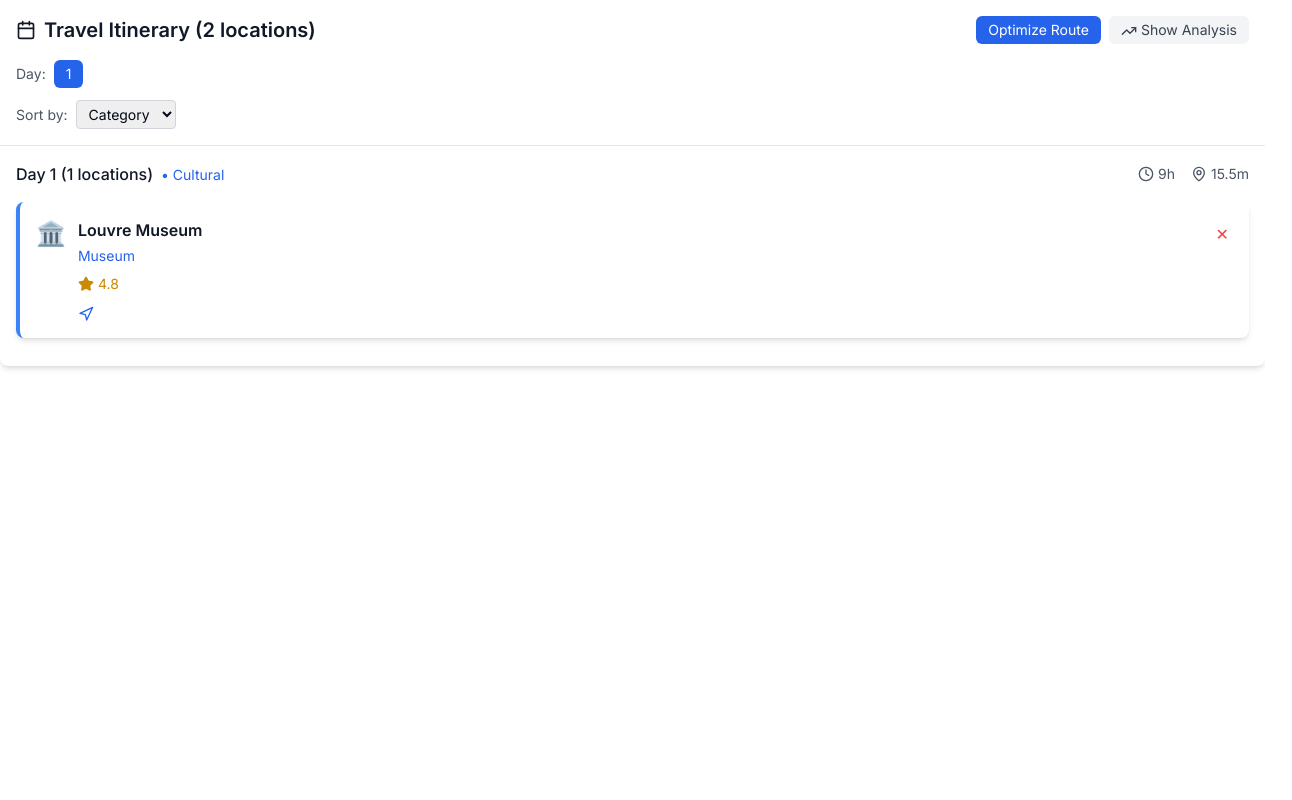
Test: TravelItinerary Component › displays travel recommendations when analysis is shown
Click the button "Show Analysis": [1179, 30] box left=1109, top=16, right=1249, bottom=44
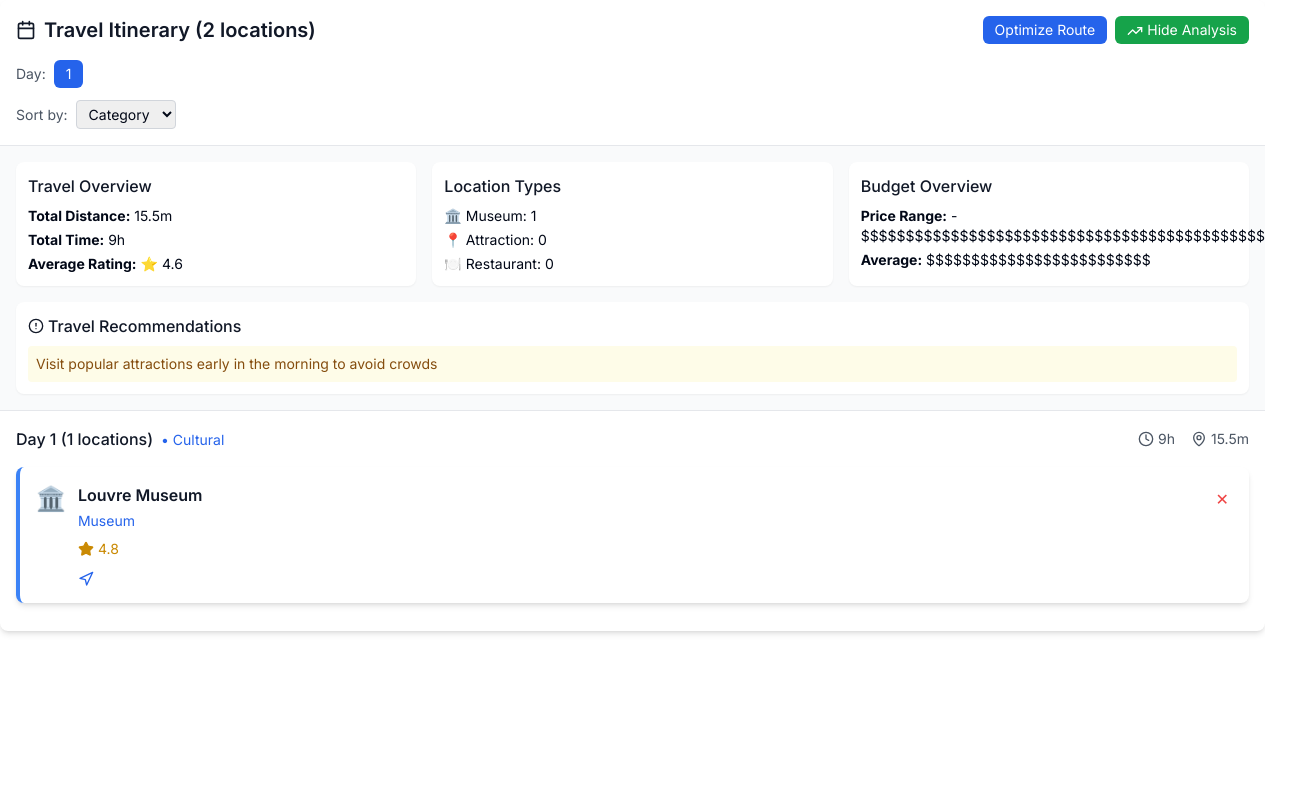
Expected: the text "Visit popular attractions early" is shown, left=36, top=355, right=438, bottom=372
